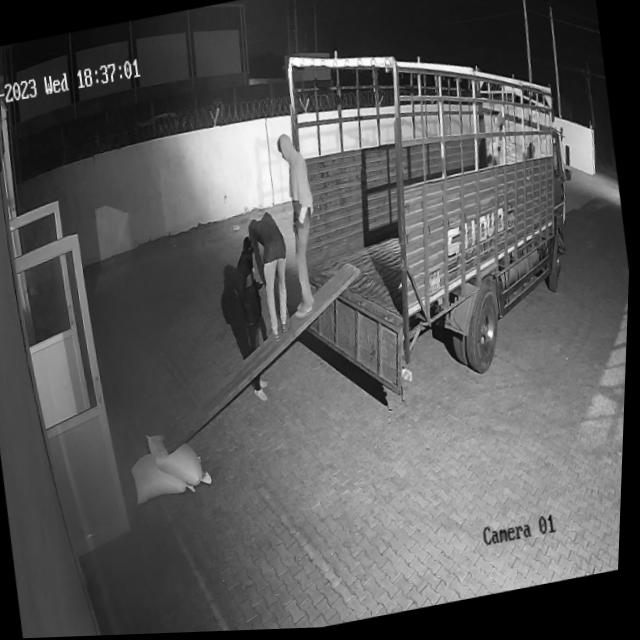sack: (146, 422, 220, 498), (131, 447, 201, 508)
